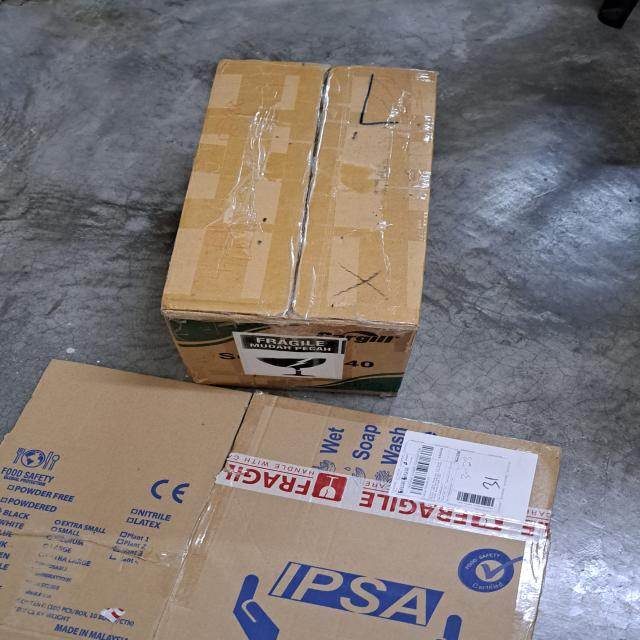cardboard: (0, 359, 560, 640), (165, 58, 434, 396)
